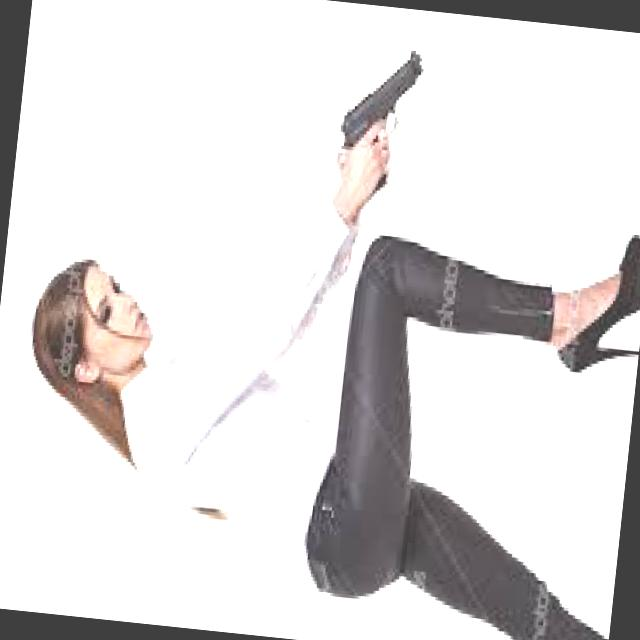handgun: (323, 45, 425, 209)
